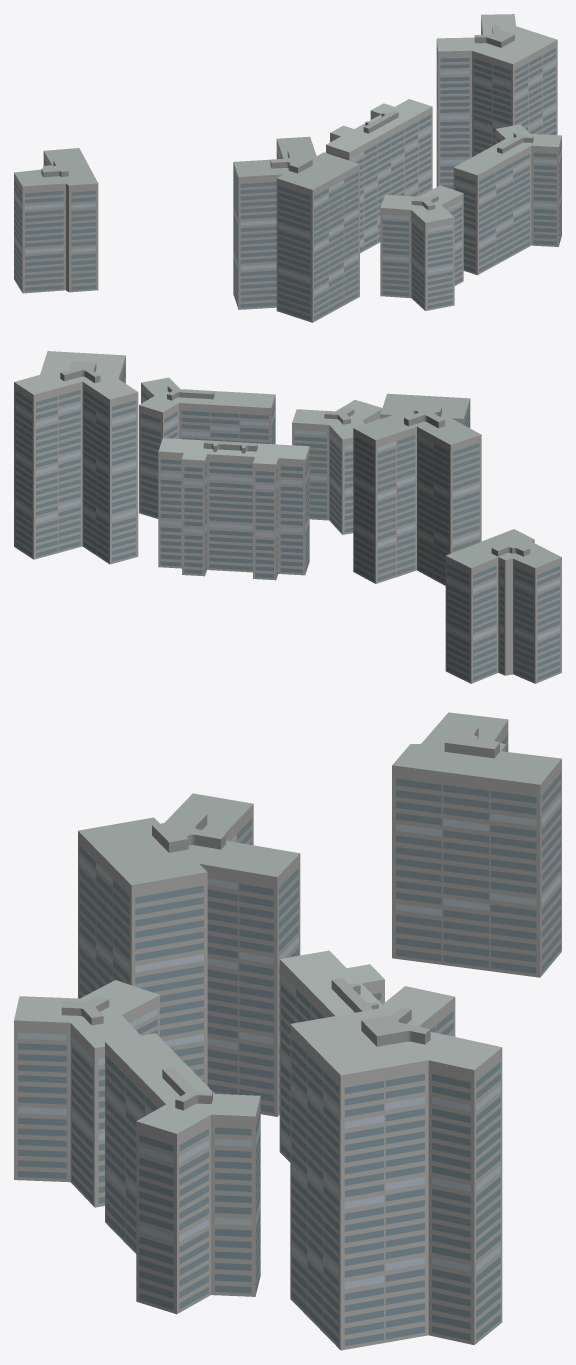
The model's file is apt-a13579501.glb.
3 renders of one model, top to bottom at view 1: azimuth 30°, elevation 25°; view 2: azimuth 150°, elevation 25°; view 3: azimuth 270°, elevation 25°, orthographic. The views are drawn at different scales.
Visible parts, largest first — view 1: apt-a13579501; view 2: apt-a13579501; view 3: apt-a13579501.
Part boxes in pixels (left/top/right/bottom): apt-a13579501: left=14, top=14, right=561, bottom=322; apt-a13579501: left=14, top=351, right=561, bottom=683; apt-a13579501: left=14, top=712, right=561, bottom=1350.
Size of the model in its own units: 217 by 65 by 113.
